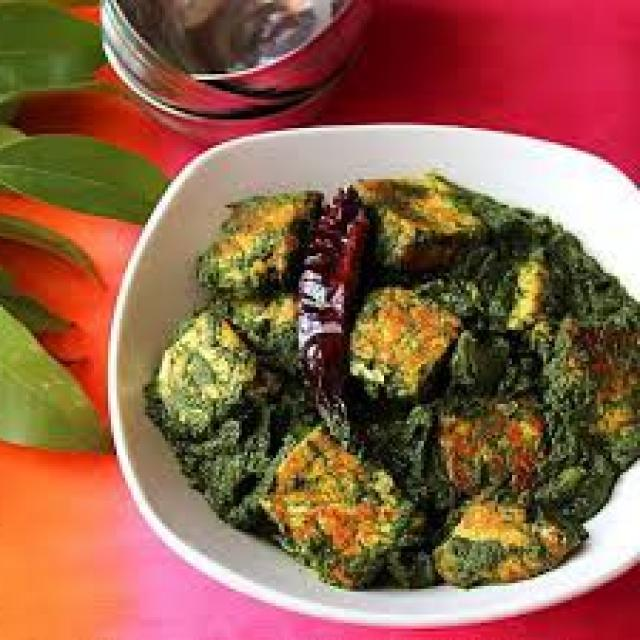Palak Paneer: (131, 171, 640, 597)
